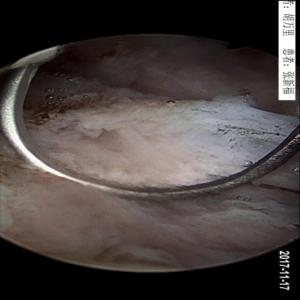film: (251, 178, 300, 204)
